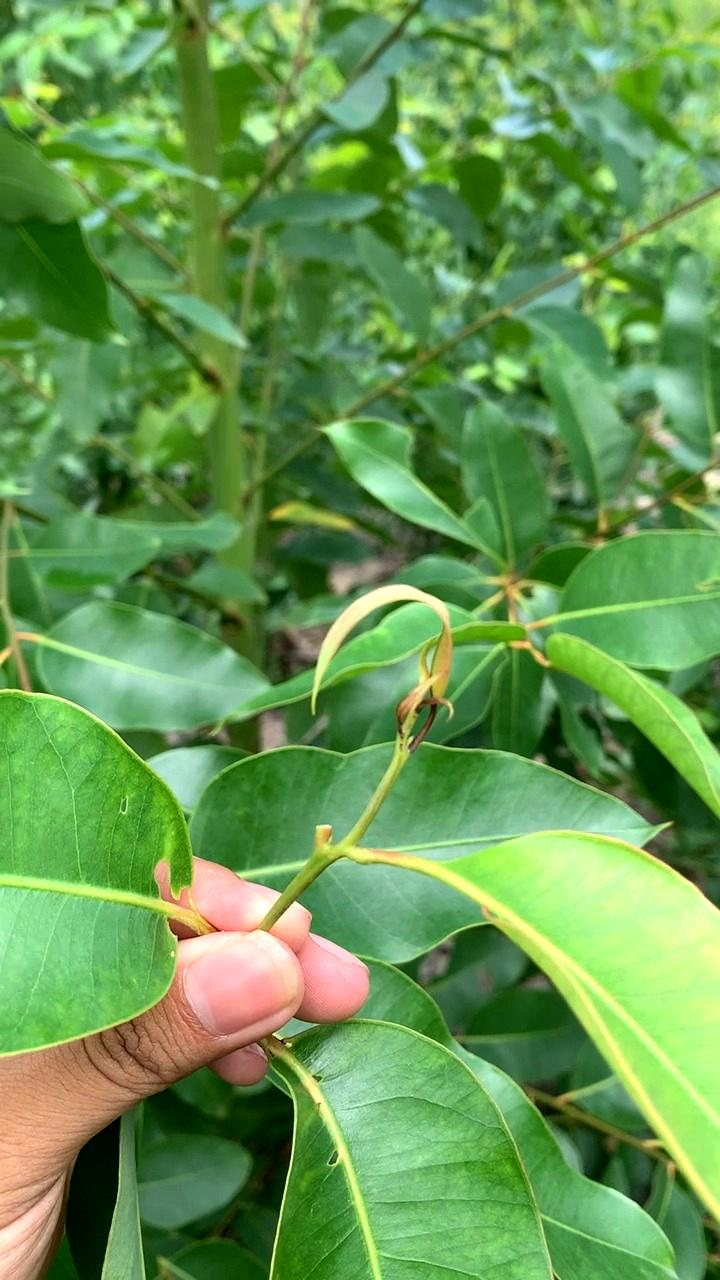Helopeltis-Withered Sprout: (311, 566, 463, 715)
